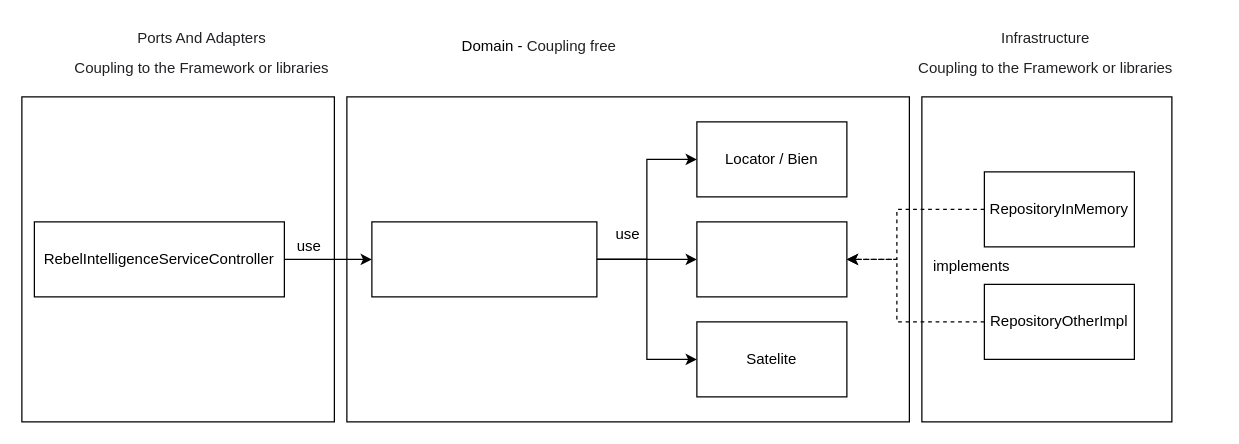
This 1239x444 diagram has some shape labels left out. Here are the shapes that lost their labels. From the top down, the centre of each, then its label:
the point at 484,259: GetDistressMessageUseCase
the point at 771,259: Repository
